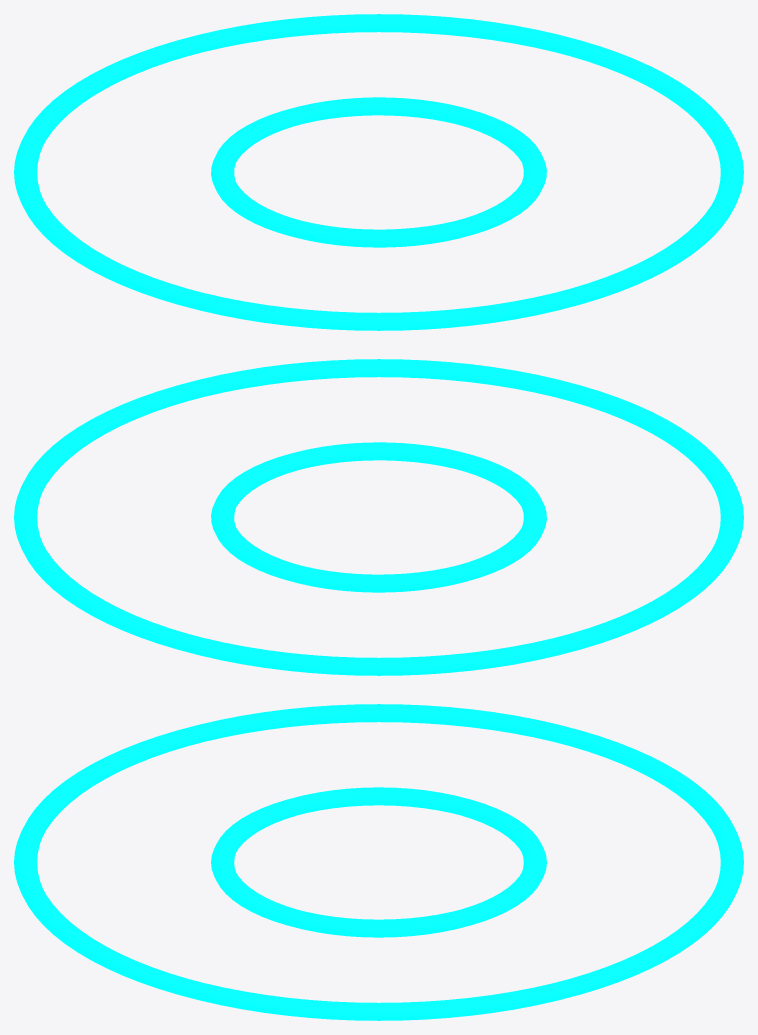
The model's file is FG_PadRingCyan.fbx.
3 views of the same model, one above another, from view 1: azimuth 30°, elevation 25°; view 2: azimuth 150°, elevation 25°; view 3: azimuth 270°, elevation 25° (orthographic).
Parts seen in each view (by area): view 1: FG_PadRingCyan; view 2: FG_PadRingCyan; view 3: FG_PadRingCyan.
Boxes of the visible parts, bbox=[...] form: FG_PadRingCyan: bbox=[14, 14, 743, 330]; FG_PadRingCyan: bbox=[14, 359, 743, 675]; FG_PadRingCyan: bbox=[14, 704, 743, 1020].
Size of the model in its own units: 12.6 by 0.2853 by 12.6.
